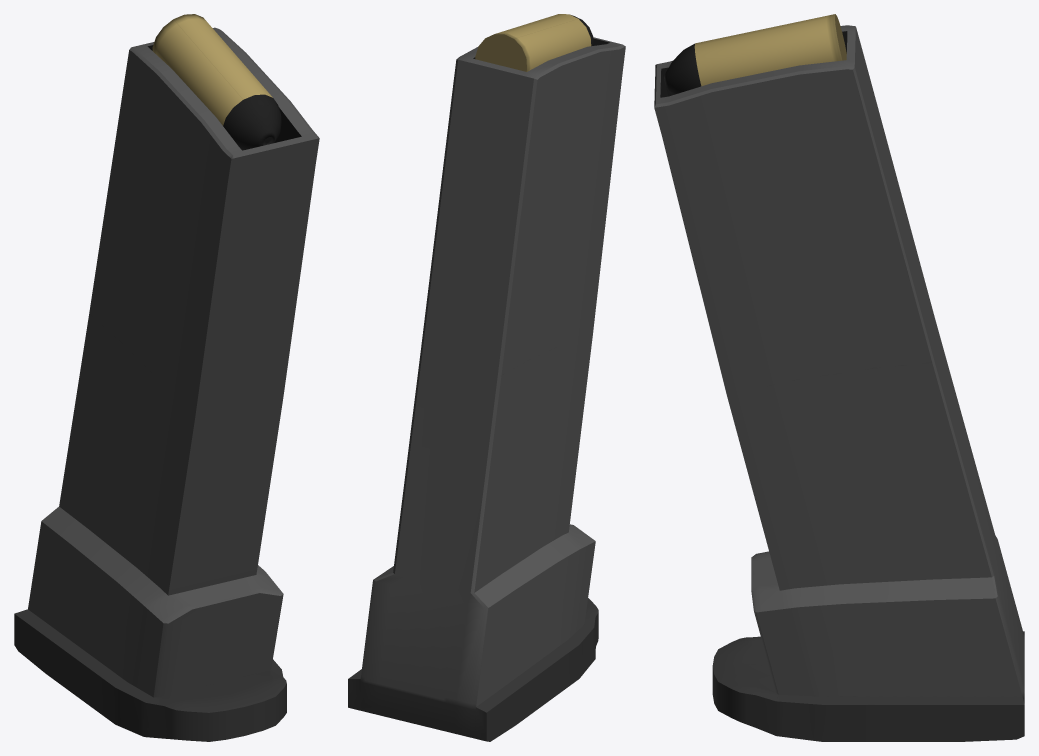
Rendered from s3d_p320m17mag.fbx.
3 views of the same model, side by side, from view 1: azimuth 30°, elevation 25°; view 2: azimuth 150°, elevation 25°; view 3: azimuth 270°, elevation 25° (orthographic). The views are drawn at different scales.
Visible parts, largest first — view 1: s3d_p320m17_mag, s3d_shell_9mm; view 2: s3d_p320m17_mag, s3d_shell_9mm; view 3: s3d_p320m17_mag, s3d_shell_9mm.
Boxes of the visible parts, left/top/right/bottom form: s3d_p320m17_mag: left=14, top=27, right=319, bottom=741; s3d_shell_9mm: left=152, top=14, right=281, bottom=150; s3d_p320m17_mag: left=348, top=37, right=625, bottom=741; s3d_shell_9mm: left=475, top=14, right=593, bottom=71; s3d_p320m17_mag: left=654, top=25, right=1024, bottom=741; s3d_shell_9mm: left=664, top=14, right=846, bottom=94.
Size of the model in its own units: 2.4 by 10.46 by 5.1.
